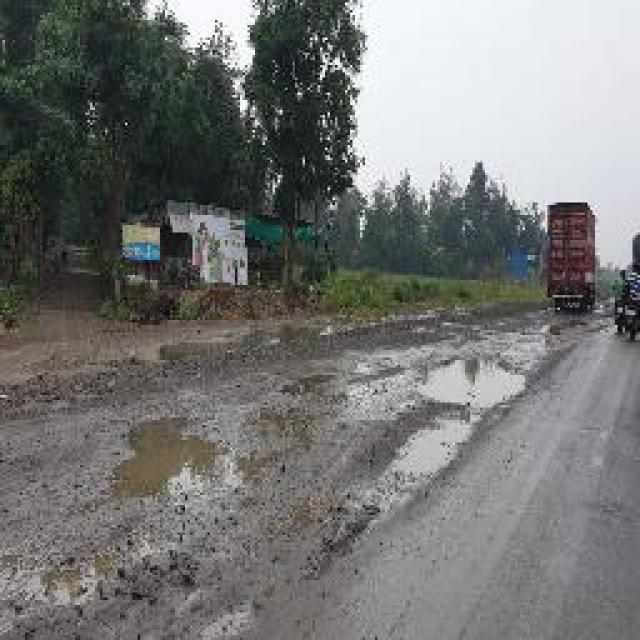puddle: (111, 421, 226, 499)
